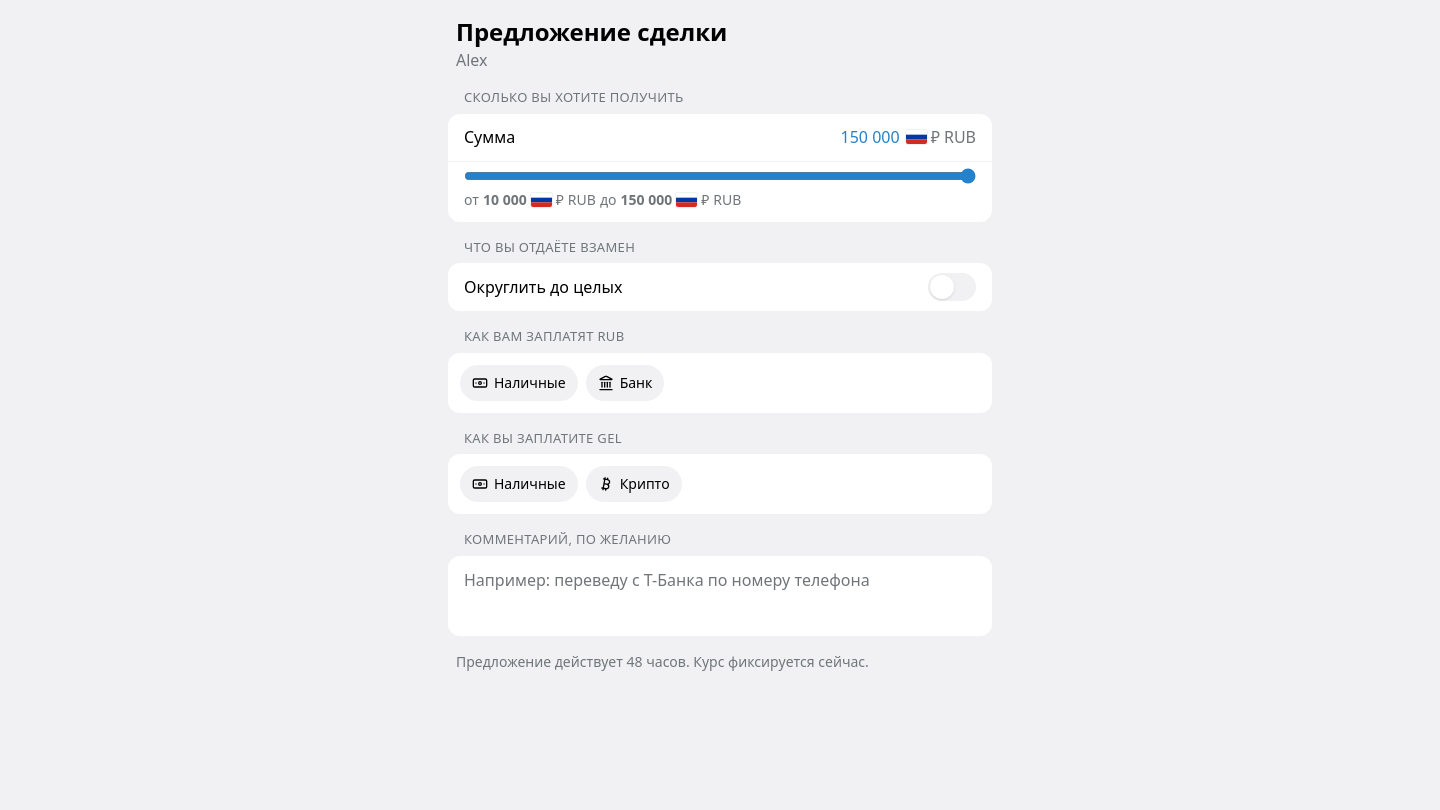
the proposal › says what is missing in sight, instead of sending
Replace the text in the field named "Сколько вы хотите получить" with "5000" at (784, 137), box [669,125,900,149]
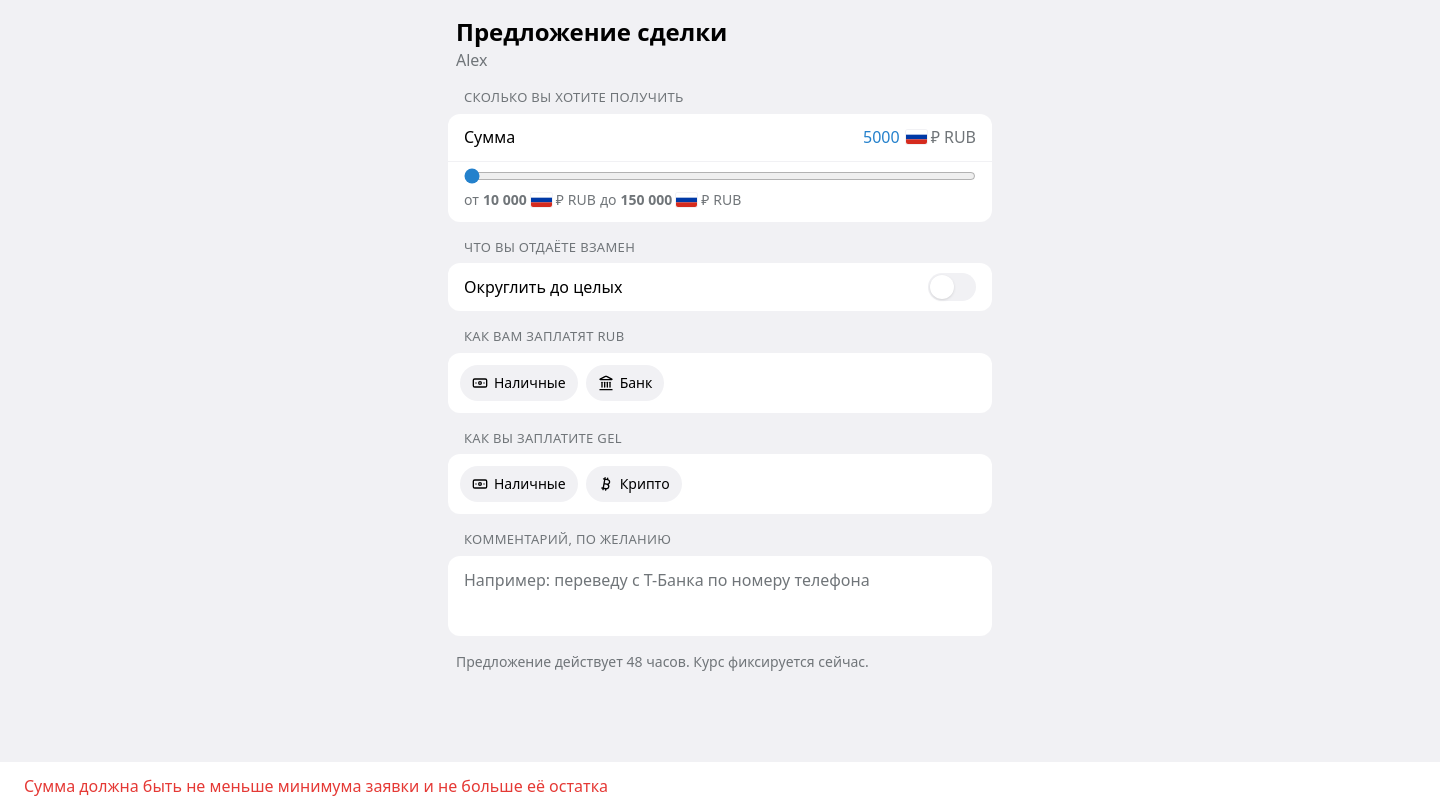
Expected: the message shows "не меньше минимума заявки", [24,775,608,797]
